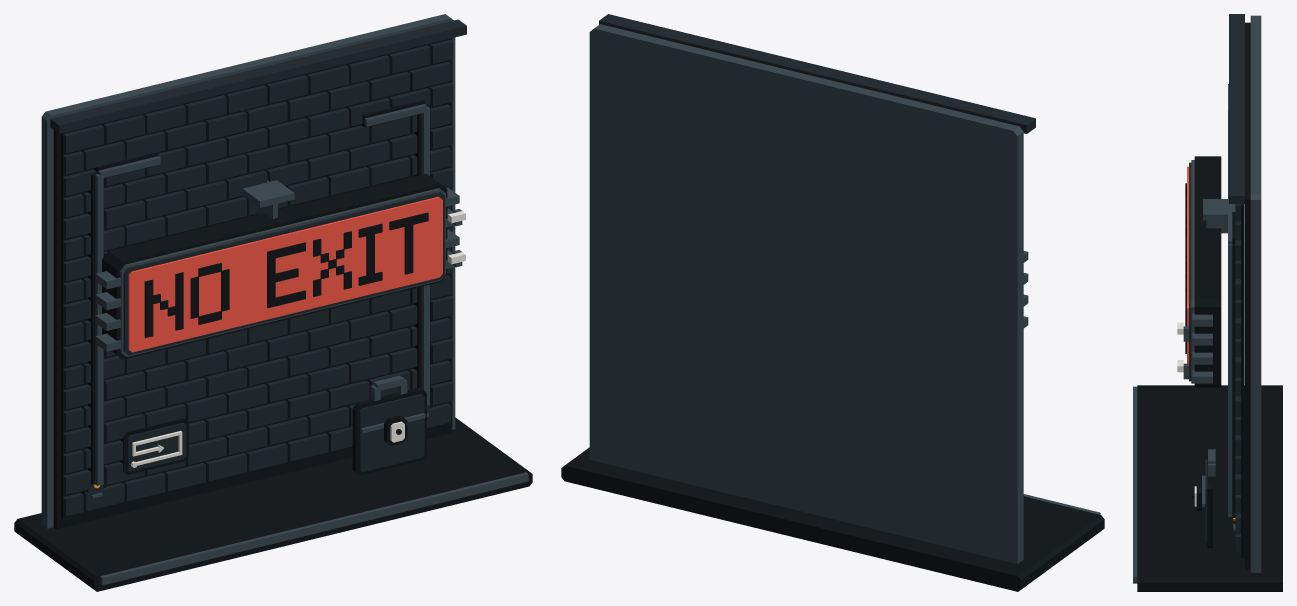
3 renders of one model, left to right at view 1: azimuth 30°, elevation 25°; view 2: azimuth 150°, elevation 25°; view 3: azimuth 270°, elevation 25°, orthographic. The views are drawn at different scales.
Parts seen in each view (by area): view 1: Exit Liquidity sign; view 2: Exit Liquidity sign; view 3: Exit Liquidity sign.
Boxes of the visible parts, x1,y1,x2,y2 form: Exit Liquidity sign: (14, 14, 532, 591); Exit Liquidity sign: (561, 14, 1104, 591); Exit Liquidity sign: (1133, 14, 1282, 591).
Bounding box in the file's own units: 1.08 × 1 × 0.3475.
